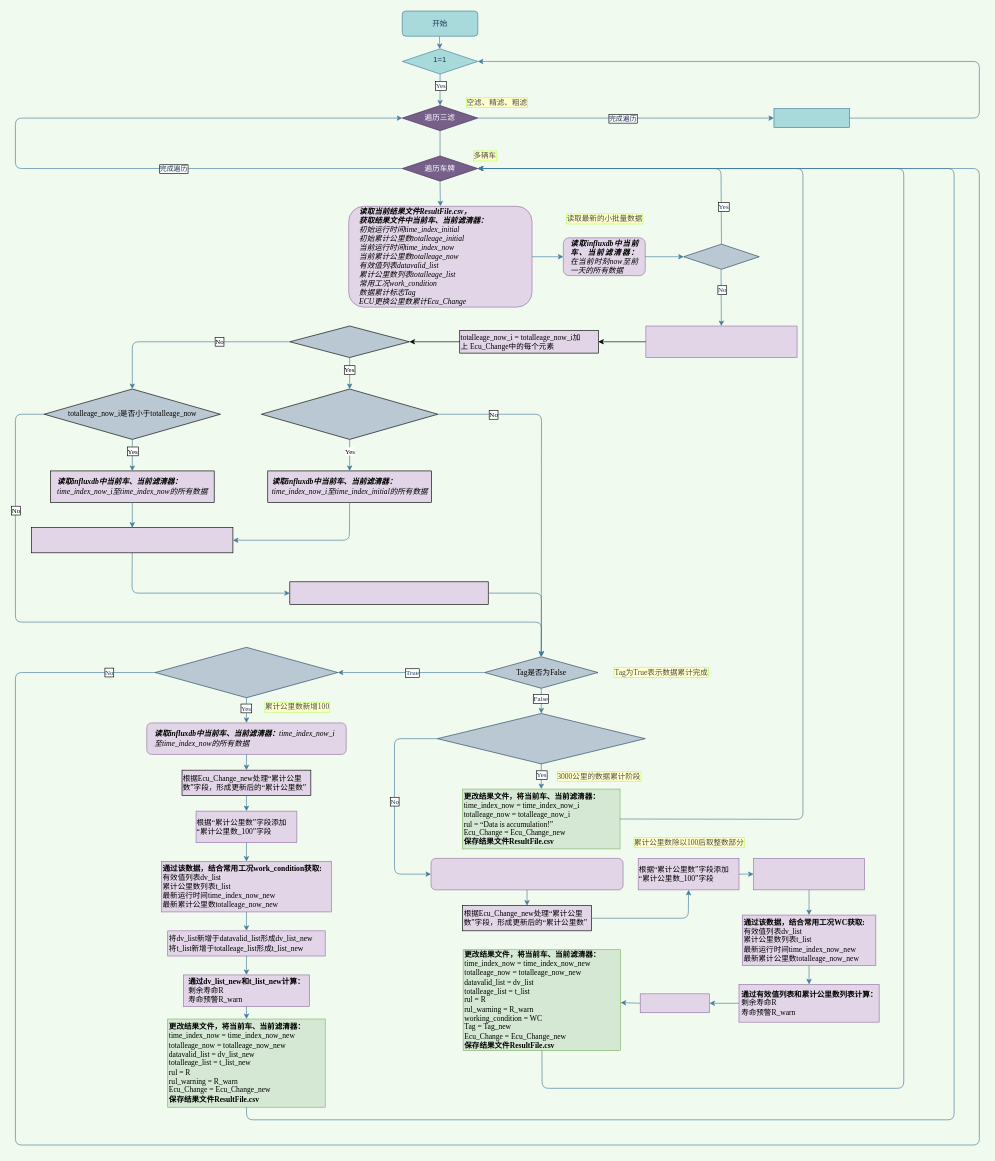
The diagram is 995 pixels wide and 1161 high, and some of its shapes have lost their labels. Here are the shapes that lost their labels. From the top down, the box of each, then its label:
(773, 108, 850, 128): 休眠30分钟
(683, 243, 759, 269): 数据是否为null
(289, 325, 410, 358): totalleage_now是否为0
(645, 325, 797, 358): 剔除数据中的null值，获取最后一条数据中： 最新运行时间time_index_now_i 最新 累计公里数totalleage_now_i
(261, 388, 438, 439): totalleage_now_i 是否小于totalleage_initial
(31, 527, 233, 553): 获取“累计公里数”中突变的数据点Ecu_Change_new_i，并新增于Ecu_Change形成Ecu_Change_new
(289, 581, 488, 604): totalleage_now_i = totalleage_now_i + Ecu_Change_new_i
(154, 647, 338, 698): totalleage_now_i - totalleage_now >= 100
(437, 713, 645, 764): totalleage_now_i - totalleage_initial < 3000
(430, 858, 623, 890): 读取inluxdb中当前车、当前滤清器： time_index_now_i 至time_index_initial的所有数据，剔除null值
(753, 858, 864, 890): 通过该数据获取常用工况 WC
(640, 993, 710, 1013): Tag_new = True
